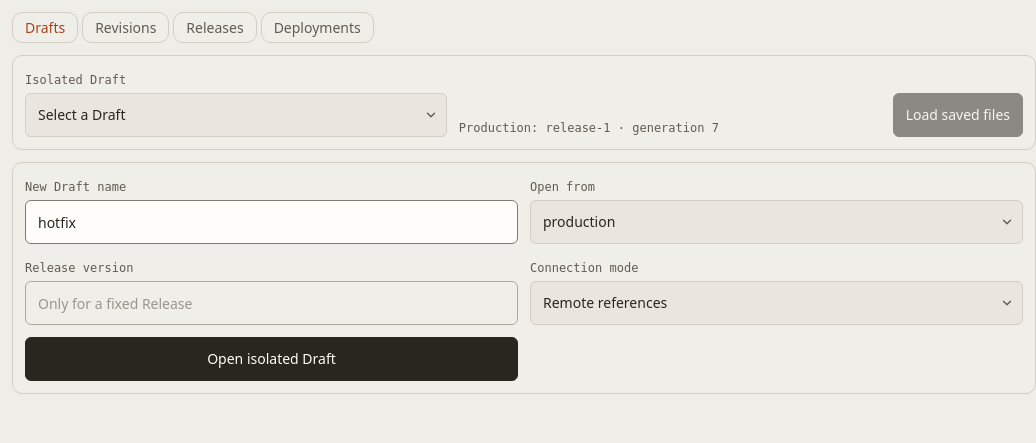
Test: Owner lifecycle workbench › clears a known rejected write while preserving the refusal explanation
Click the button "Open isolated Draft".
click(272, 359)  # box [25,337,518,381]
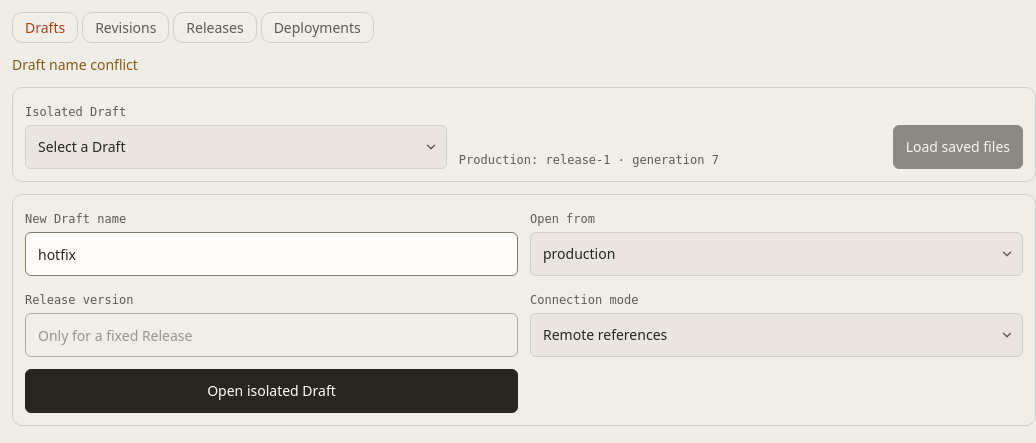
Expected: the button "Open isolated Draft" is enabled, [25,369,518,413]
Expected: the text "Draft name conflict" is shown, [12,55,138,74]
